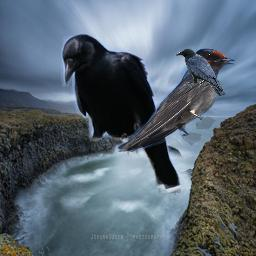Crow: (60, 33, 181, 196), (175, 48, 226, 97)
Swallow: (117, 48, 235, 152)
